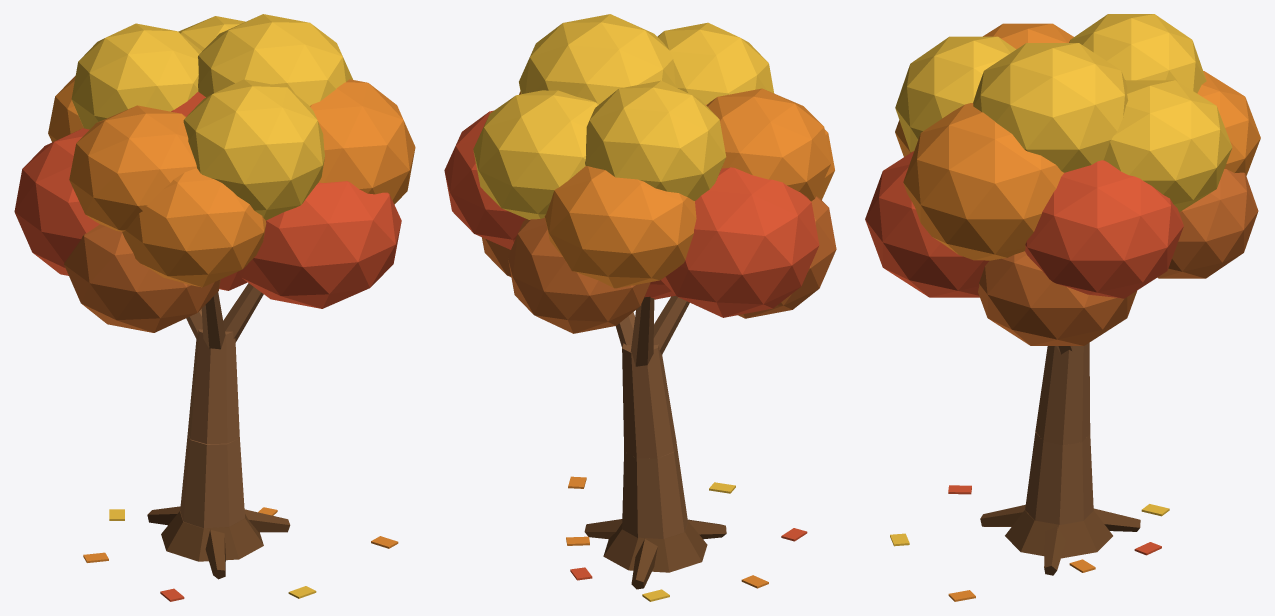
File: tree-autumn.glb
The picture shows the model from 3 angles, left to right: view 1: azimuth 30°, elevation 25°; view 2: azimuth 150°, elevation 25°; view 3: azimuth 270°, elevation 25°; orthographic projection.
Visible parts, largest first — view 1: Autumn_Crown, Autumn_Trunk; view 2: Autumn_Crown, Autumn_Trunk; view 3: Autumn_Crown, Autumn_Trunk.
Part boxes in pixels (bbox=[...]): Autumn_Crown: bbox=[14, 14, 415, 601]; Autumn_Trunk: bbox=[147, 283, 290, 579]; Autumn_Crown: bbox=[444, 14, 836, 601]; Autumn_Trunk: bbox=[584, 295, 726, 589]; Autumn_Crown: bbox=[865, 14, 1260, 601]; Autumn_Trunk: bbox=[980, 342, 1140, 575].
Size of the model in its own units: 2.28 by 3.24 by 2.23.
